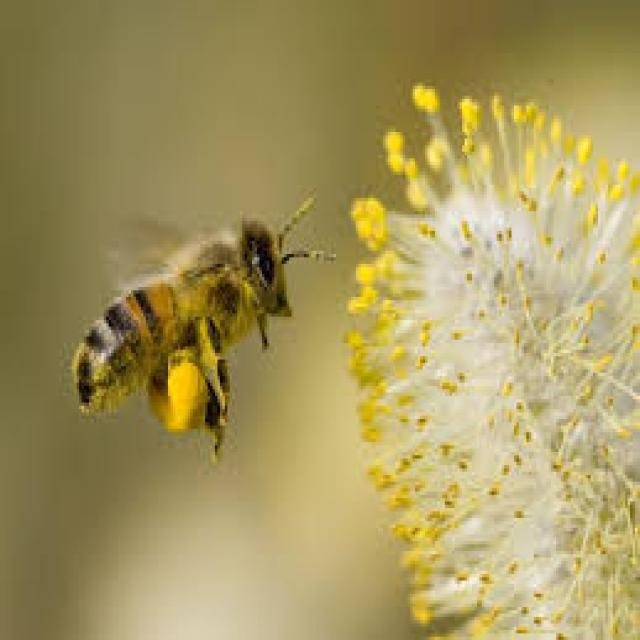Bees: (74, 193, 338, 459)
